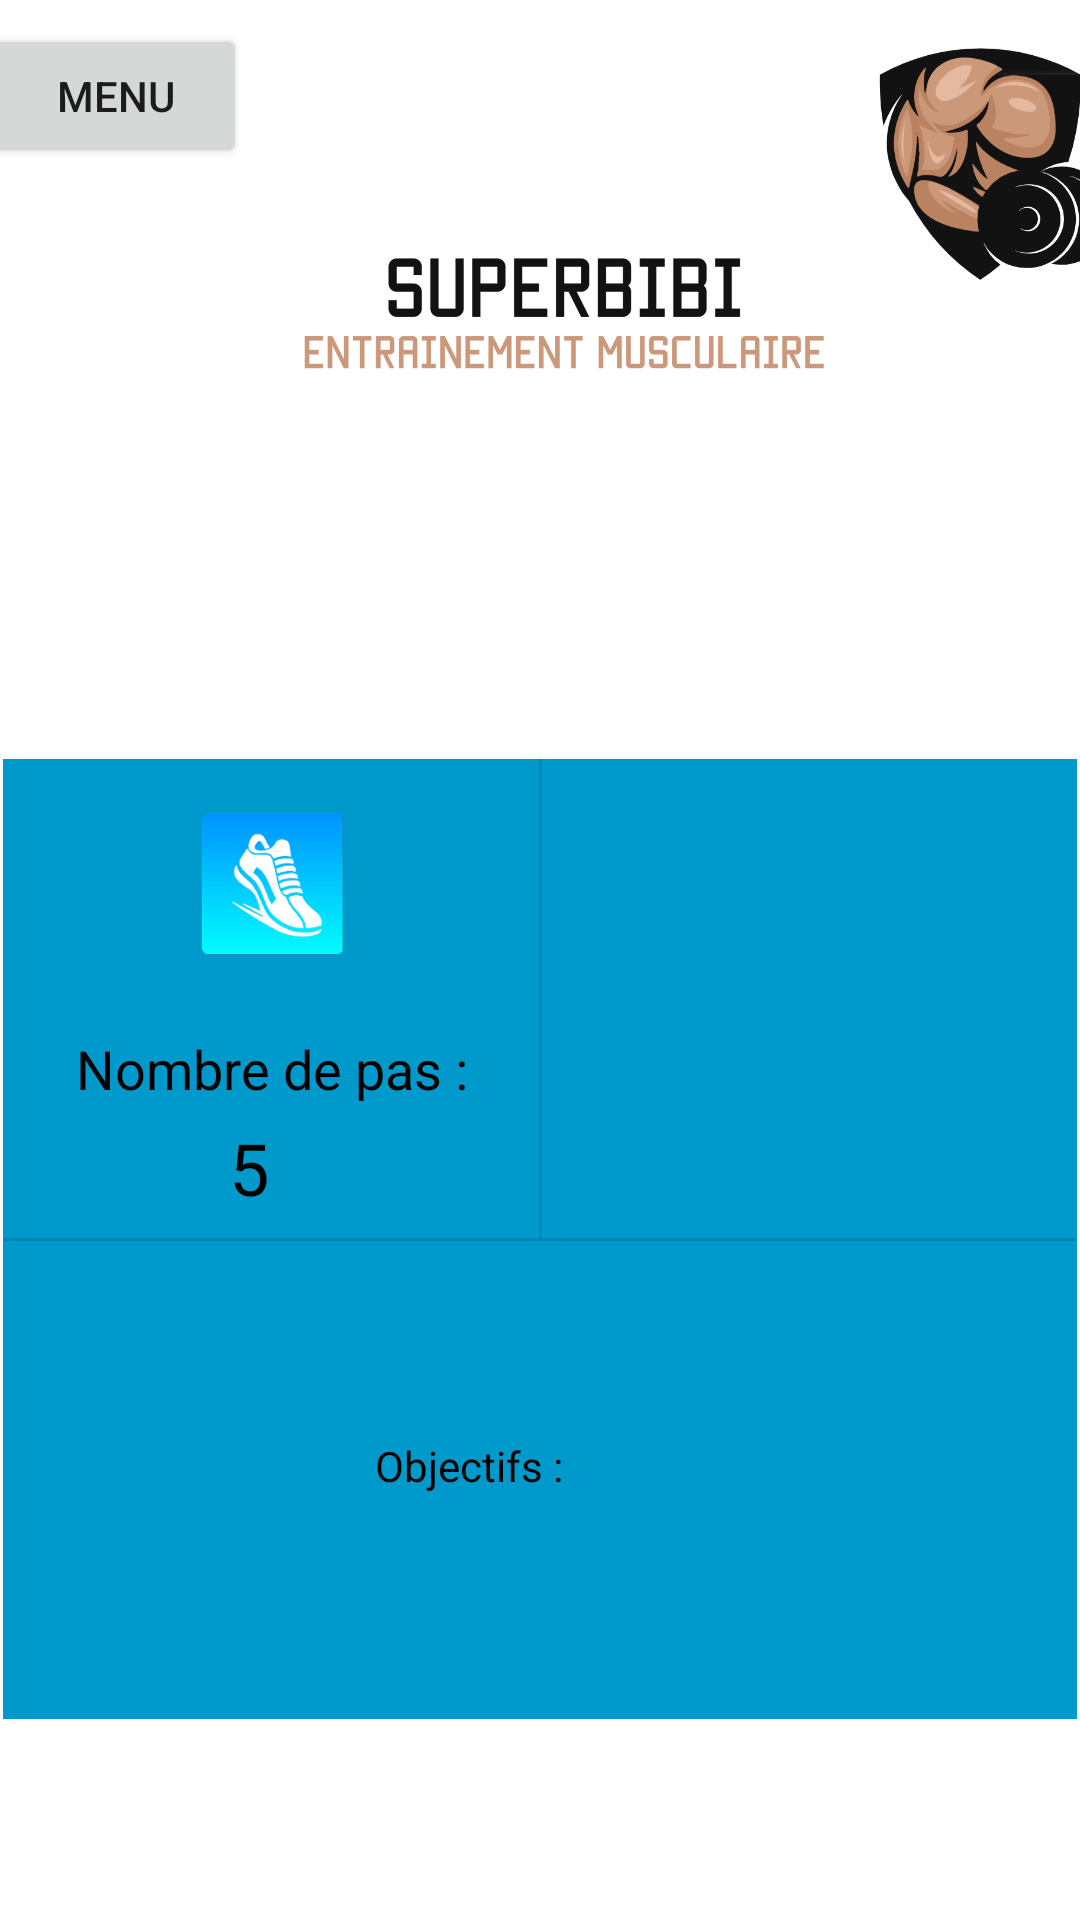

Point at icon controls on the screen. Image size 1080w x 1920h, points as (x,y).
podom tre ne: (272,883)
